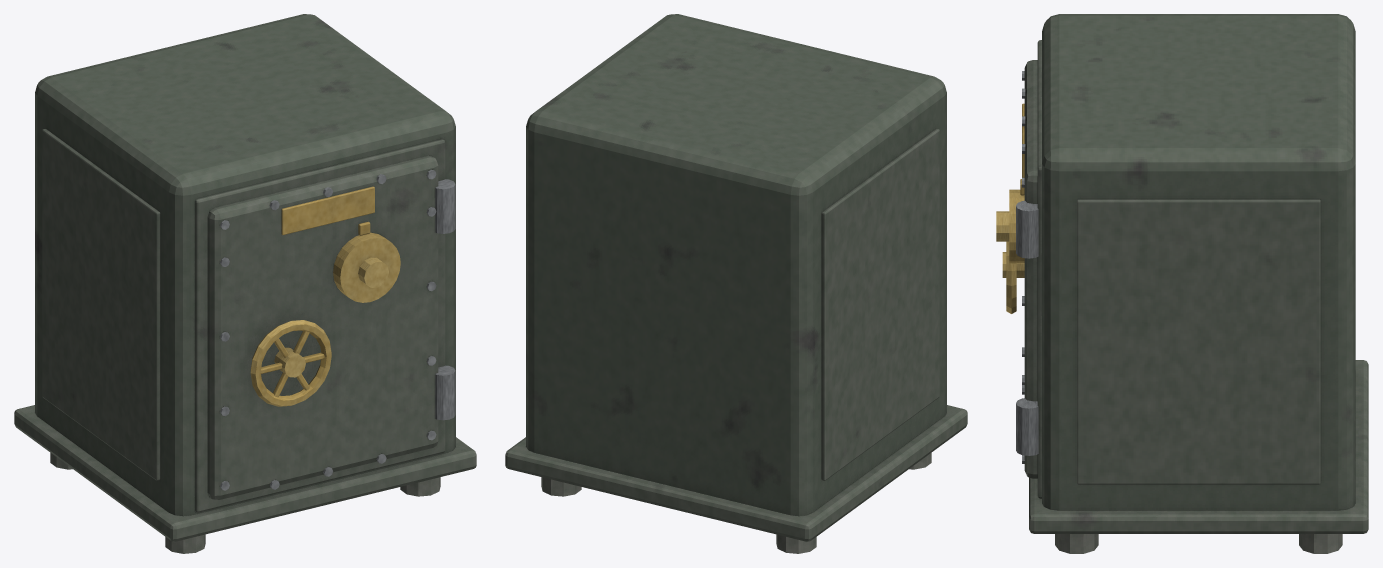
The model's file is poi_safe.glb.
The picture shows the model from 3 angles, left to right: view 1: azimuth 30°, elevation 25°; view 2: azimuth 150°, elevation 25°; view 3: azimuth 270°, elevation 25°; orthographic projection. The views are drawn at different scales.
Parts seen in each view (by area): view 1: poi_safe; view 2: poi_safe; view 3: poi_safe.
Part boxes in pixels (bbox=[...]): poi_safe: bbox=[14, 14, 476, 553]; poi_safe: bbox=[505, 14, 967, 553]; poi_safe: bbox=[996, 14, 1368, 553].
Size of the model in its own units: 0.86 by 1.02 by 0.855.
Materials: 3 (3 with a texture image).
